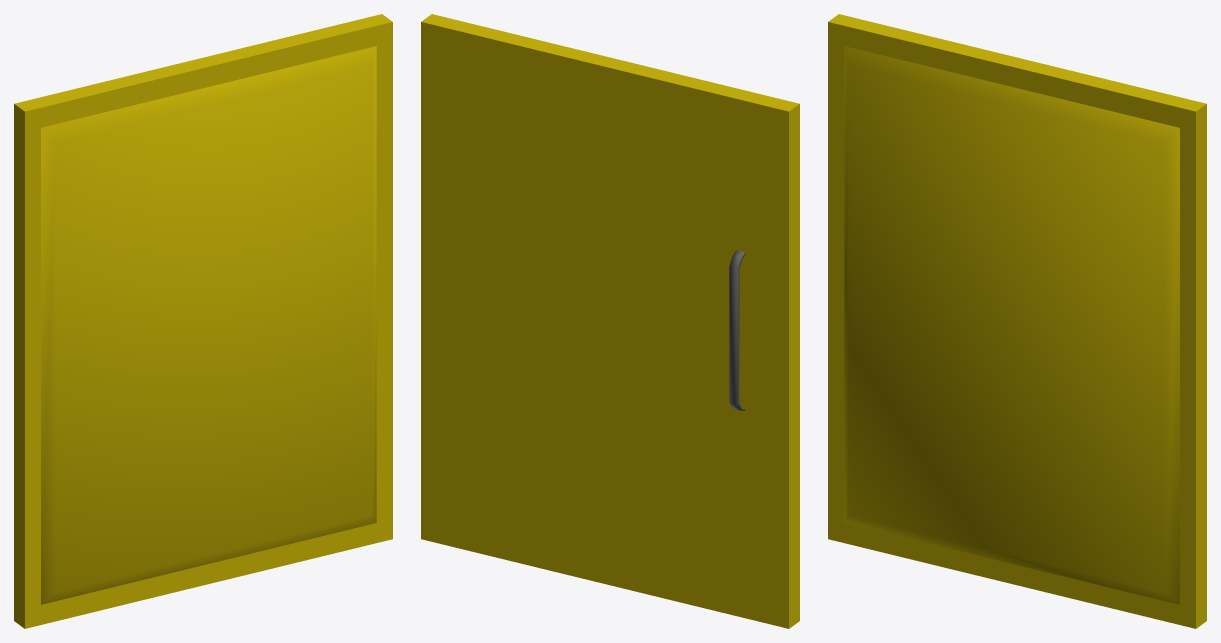
File: SNWP_MOD_BUN_Fridge_door.fbx
3 views of the same model, side by side, from view 1: azimuth 30°, elevation 25°; view 2: azimuth 150°, elevation 25°; view 3: azimuth 330°, elevation 25° (orthographic).
Visible parts, largest first — view 1: SNWP_MOD_Fridge_door; view 2: SNWP_MOD_Fridge_door; view 3: SNWP_MOD_Fridge_door.
Boxes of the visible parts, x1,y1,x2,y2 form: SNWP_MOD_Fridge_door: (14, 14, 392, 628); SNWP_MOD_Fridge_door: (421, 14, 799, 628); SNWP_MOD_Fridge_door: (828, 14, 1206, 628).
Size of the model in its own units: 0.611 by 0.8209 by 0.0651.
